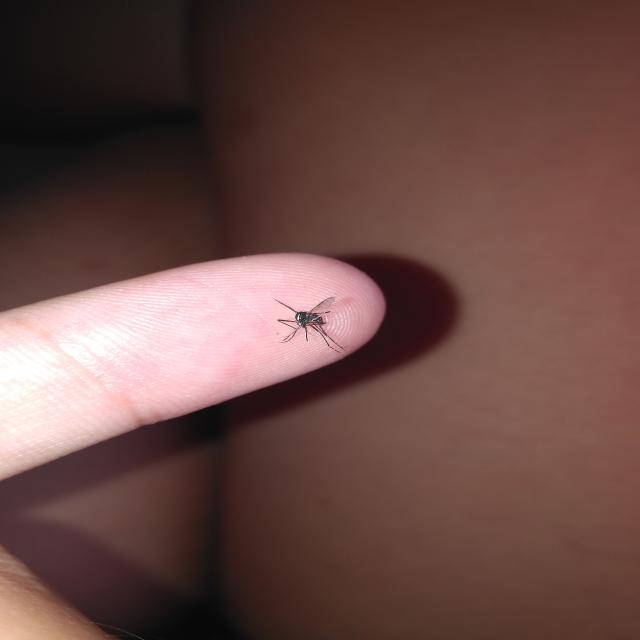albopictus: (269, 292, 344, 348)
